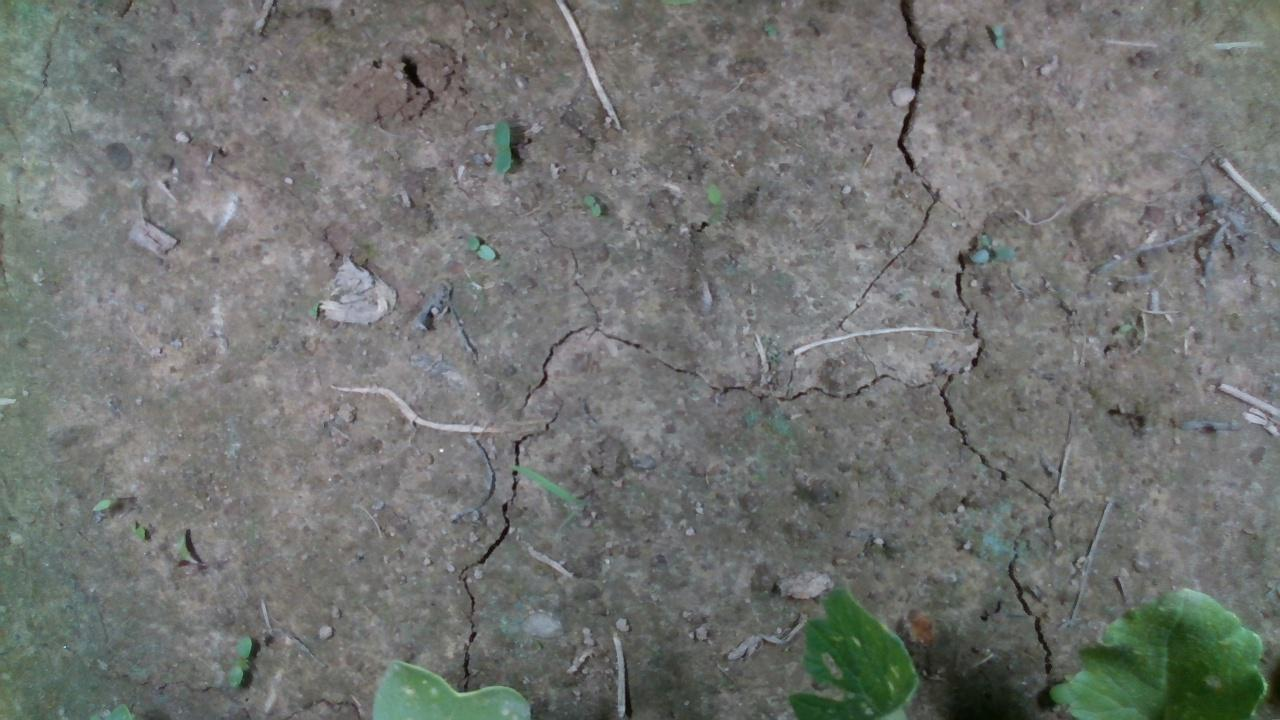weed: (223, 633, 252, 689), (460, 231, 497, 261), (491, 116, 509, 174), (582, 193, 601, 216)
